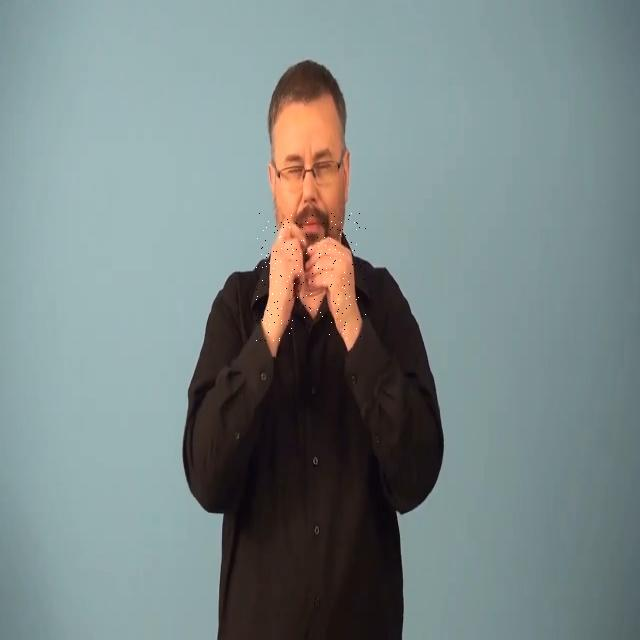juicy: (256, 212, 366, 341)
